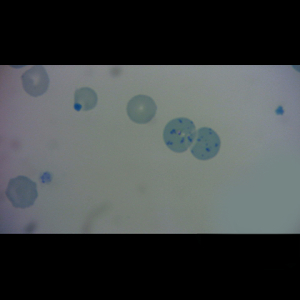aggregate reticulocyte: (162, 116, 198, 154), (188, 126, 222, 161)
erythrocyte: (4, 174, 40, 210), (125, 93, 159, 125), (20, 65, 52, 98), (71, 86, 100, 113)
